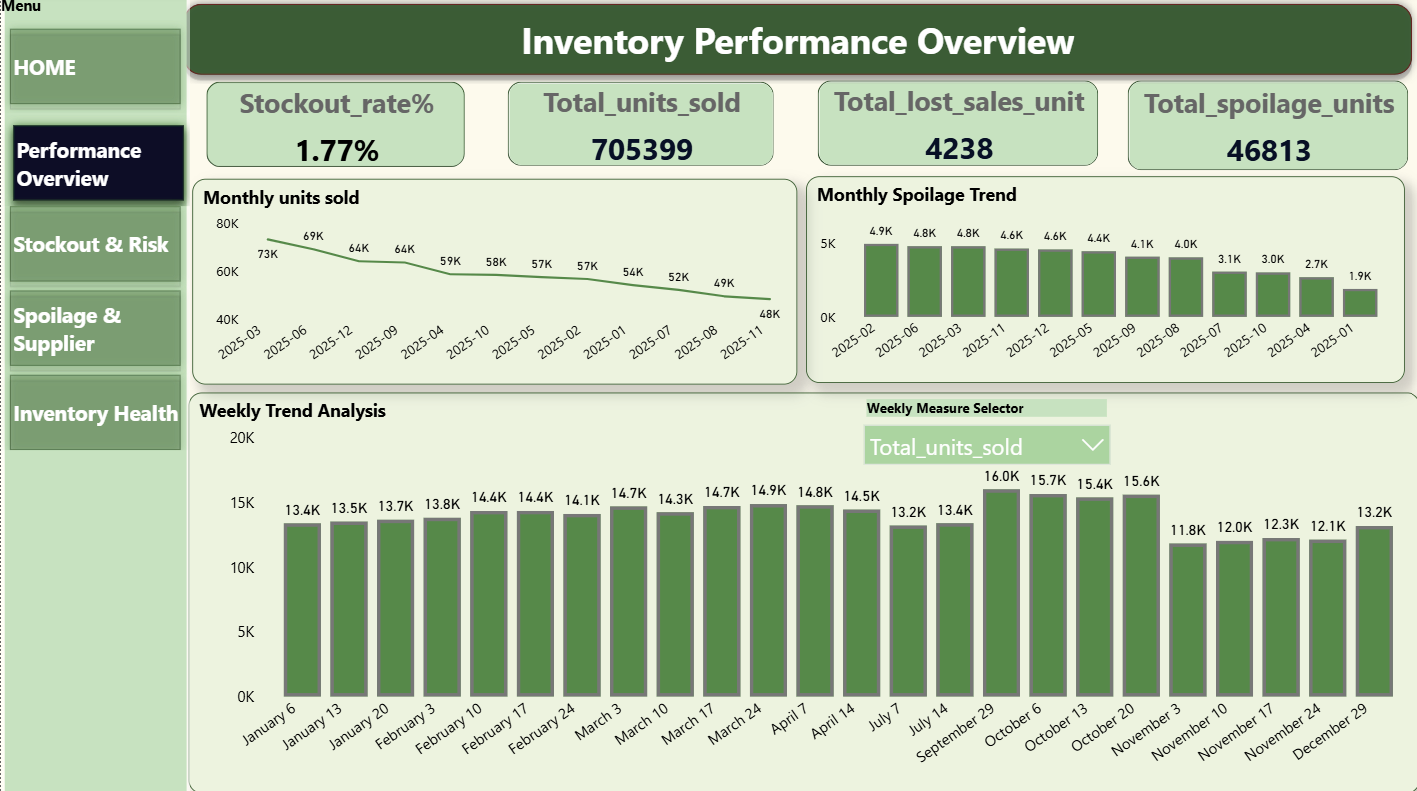

The page's visual inventory and layout, read from the dashboard file:
{"tool":"powerbi","page":{"name":"Performance Overview","canvas":[1280,720],"ordinal":1},"visuals":[{"type":"cardVisual","fields":{"Data":["inventory_ledger_cleaned.Stockout_rate"]},"box":[180.8,73.8,243.5,87.3],"z":0},{"type":"cardVisual","fields":{"Data":["inventory_ledger_cleaned.Total_lost_sales_unit"]},"box":[731.7,72.6,263.2,87.3],"z":1000},{"type":"cardVisual","fields":{"Data":["inventory_ledger_cleaned.Total_units_sold"]},"box":[452.1,73.8,250.4,87],"z":2000},{"type":"cardVisual","fields":{"Data":["inventory_ledger_cleaned.Total_spoilage_units"]},"box":[1010.9,72.6,263.2,91],"z":3000},{"type":"lineChart","title":" Monthly units sold","fields":{"Category":["inventory_ledger_cleaned.month"],"Y":["inventory_ledger_cleaned.Total_units_sold"]},"box":[172.9,165.7,545.7,185.7],"z":4000},{"type":"clusteredColumnChart","title":"Weekly Trend Analysis","fields":{"Y":["inventory_ledger_cleaned.Total_units_sold"],"Category":["inventory_ledger_cleaned.week_start.Variation.Date Hierarchy.Month","inventory_ledger_cleaned.week_start.Variation.Date Hierarchy.Day"]},"box":[168.6,358.6,1111.4,361.4],"z":5000},{"type":"columnChart","title":"Monthly Spoilage Trend","fields":{"Category":["inventory_ledger_cleaned.month"],"Y":["inventory_ledger_cleaned.Total_spoilage_units"]},"box":[725.8,163.9,539.7,186.1],"z":6000},{"type":"slicer","fields":{"Values":["Weekly Measure Selector.Weekly Measure Selector"]},"box":[767.1,360,242.9,72.9],"z":6500},{"type":"shape","box":[156.2,0,1123.8,80],"z":7000},{"type":"group","id":"g1","title":"Group 3","box":[0,0,170,718.4],"z":9000},{"type":"shape","box":[2.9,0,164.1,718.9],"z":9000,"group":"g2"},{"type":"group","id":"g2","title":"Group 1","box":[0,0,170,718.9],"z":9501,"group":"g1"},{"type":"pageNavigator","title":"Menu","box":[0,0,170,414],"z":10000,"group":"g2"}]}

Visuals, with their boxes in screenshot pixels (x1, y1, x2, y2), scaled from the page's 1280x720 canvas onto the 1417x791 screenshot:
cardVisual - inventory_ledger_cleaned.Stockout_rate: <bbox>200, 81, 470, 177</bbox>
cardVisual - inventory_ledger_cleaned.Total_lost_sales_unit: <bbox>810, 80, 1101, 176</bbox>
cardVisual - inventory_ledger_cleaned.Total_units_sold: <bbox>500, 81, 778, 177</bbox>
cardVisual - inventory_ledger_cleaned.Total_spoilage_units: <bbox>1119, 80, 1410, 180</bbox>
" Monthly units sold" lineChart: <bbox>191, 182, 796, 386</bbox>
"Weekly Trend Analysis" clusteredColumnChart: <bbox>187, 394, 1416, 790</bbox>
"Monthly Spoilage Trend" columnChart: <bbox>803, 180, 1401, 385</bbox>
slicer - Weekly Measure Selector.Weekly Measure Selector: <bbox>849, 396, 1118, 476</bbox>
shape: <bbox>173, 0, 1416, 88</bbox>
"Group 3" group: <bbox>0, 0, 188, 789</bbox>
shape: <bbox>3, 0, 185, 790</bbox>
"Group 1" group: <bbox>0, 0, 188, 790</bbox>
"Menu" pageNavigator: <bbox>0, 0, 188, 455</bbox>
